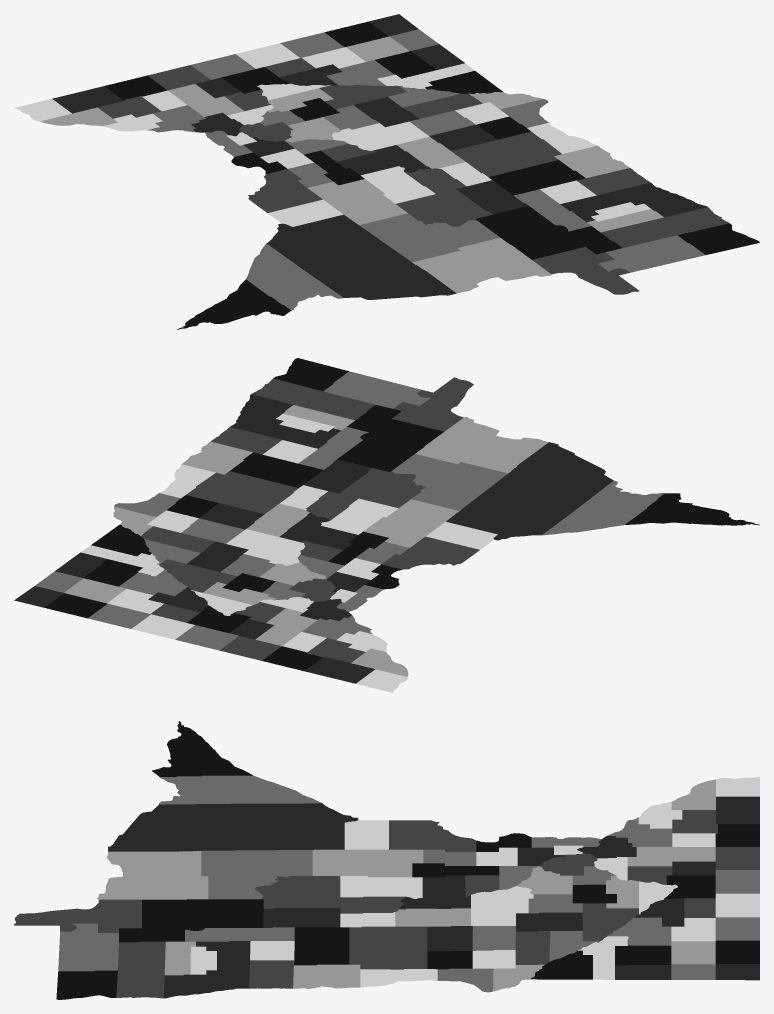
File: Minnesota_Counties_2D.fbx
3 views of the same model, one above another, from view 1: azimuth 30°, elevation 25°; view 2: azimuth 150°, elevation 25°; view 3: azimuth 270°, elevation 25° (orthographic). The views are drawn at different scales.
Parts seen in each view (by area): view 1: MN_St_Louis_County_2D, MN_Koochiching_County_2D, MN_Beltrami_County_2D, MN_Itasca_County_2D, MN_Cass_County_2D, MN_Lake_County_2D, MN_Otter_Tail_County_2D, MN_Polk_County_2D, MN_Aitkin_County_2D, MN_Lake_Of_The_Woods_County_2D, MN_Marshall_County_2D, MN_Roseau_County_2D (+72 smaller); view 2: MN_St_Louis_County_2D, MN_Koochiching_County_2D, MN_Beltrami_County_2D, MN_Itasca_County_2D, MN_Cass_County_2D, MN_Lake_County_2D, MN_Otter_Tail_County_2D, MN_Polk_County_2D, MN_Aitkin_County_2D, MN_Lake_Of_The_Woods_County_2D, MN_Marshall_County_2D, MN_Roseau_County_2D (+64 smaller); view 3: MN_St_Louis_County_2D, MN_Koochiching_County_2D, MN_Beltrami_County_2D, MN_Itasca_County_2D, MN_Cass_County_2D, MN_Lake_County_2D, MN_Otter_Tail_County_2D, MN_Aitkin_County_2D, MN_Polk_County_2D, MN_Lake_Of_The_Woods_County_2D, MN_Marshall_County_2D, MN_Roseau_County_2D (+74 smaller).
Part boxes in pixels (box(x1,y1,x2,y2)): MN_St_Louis_County_2D: box(266, 214, 456, 299); MN_Koochiching_County_2D: box(412, 237, 551, 293); MN_Beltrami_County_2D: box(475, 206, 622, 259); MN_Itasca_County_2D: box(359, 213, 499, 262); MN_Cass_County_2D: box(396, 168, 492, 226); MN_Lake_County_2D: box(246, 243, 343, 310); MN_Otter_Tail_County_2D: box(451, 131, 562, 176); MN_Polk_County_2D: box(560, 182, 707, 222); MN_Aitkin_County_2D: box(308, 179, 407, 224); MN_Lake_Of_The_Woods_County_2D: box(532, 247, 639, 294); MN_Marshall_County_2D: box(601, 207, 729, 247); MN_Roseau_County_2D: box(598, 235, 705, 272); MN_St_Louis_County_2D: box(446, 442, 613, 540); MN_Koochiching_County_2D: box(415, 417, 548, 473); MN_Beltrami_County_2D: box(337, 405, 443, 471); MN_Itasca_County_2D: box(391, 454, 507, 510); MN_Cass_County_2D: box(306, 468, 426, 520); MN_Lake_County_2D: box(542, 480, 664, 535); MN_Otter_Tail_County_2D: box(186, 471, 298, 513); MN_Polk_County_2D: box(230, 394, 341, 448); MN_Aitkin_County_2D: box(363, 499, 459, 547); MN_Lake_Of_The_Woods_County_2D: box(392, 377, 473, 431); MN_Marshall_County_2D: box(252, 378, 375, 420); MN_Roseau_County_2D: box(323, 371, 430, 408); MN_St_Louis_County_2D: box(108, 803, 358, 851); MN_Koochiching_County_2D: box(96, 851, 208, 899); MN_Beltrami_County_2D: box(119, 899, 263, 942); MN_Itasca_County_2D: box(201, 850, 312, 899); MN_Cass_County_2D: box(255, 876, 405, 913); MN_Lake_County_2D: box(159, 775, 321, 804); MN_Otter_Tail_County_2D: box(349, 926, 427, 969); MN_Aitkin_County_2D: box(312, 849, 423, 877); MN_Polk_County_2D: box(163, 941, 250, 998); MN_Lake_Of_The_Woods_County_2D: box(14, 899, 141, 932); MN_Marshall_County_2D: box(116, 941, 165, 998); MN_Roseau_County_2D: box(58, 923, 118, 971).
Size of the model in its own units: 696 by 0 by 787.
